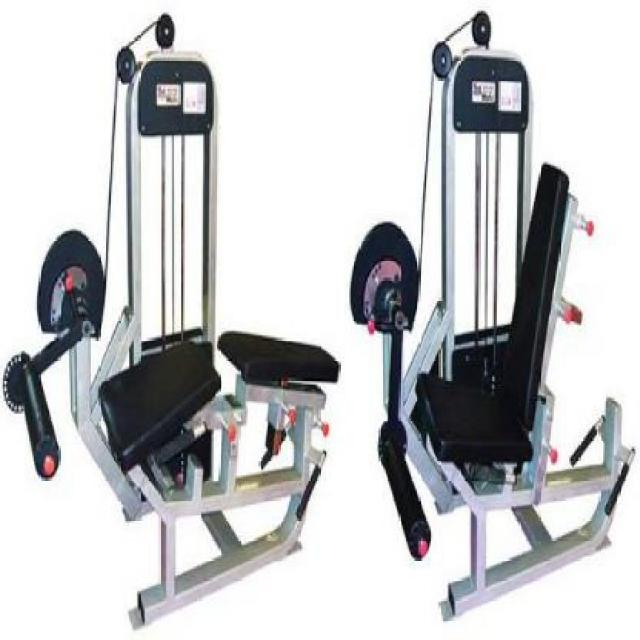reg curl machine: (2, 14, 340, 635)
